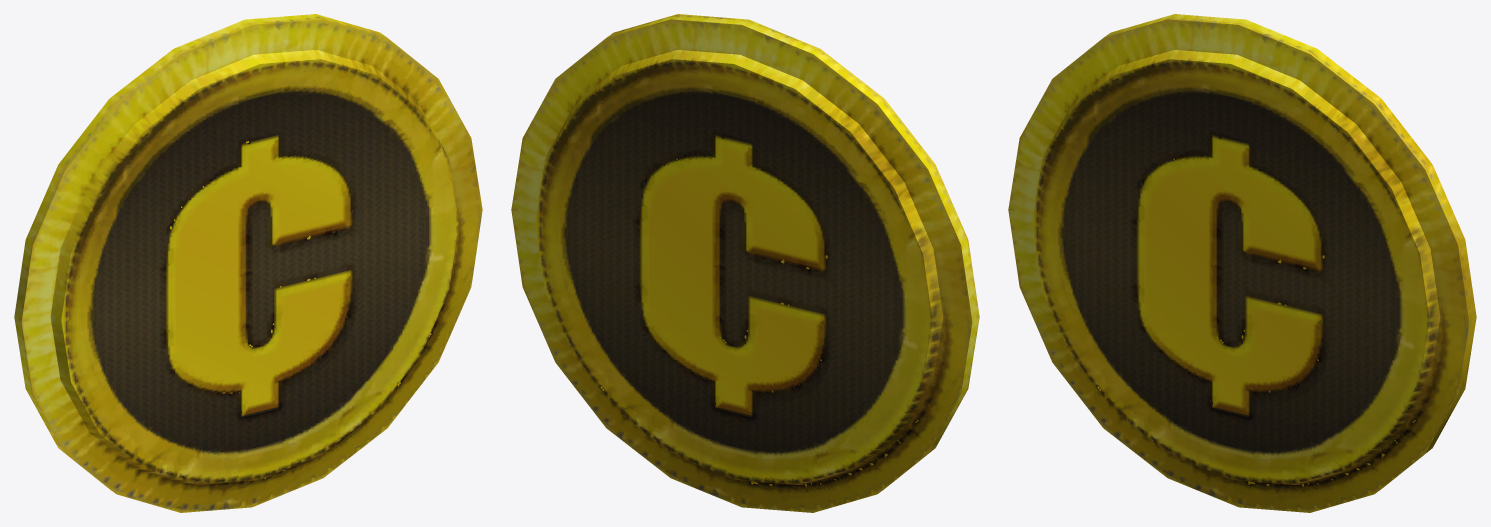
The model's file is coin.glb.
3 views of the same model, side by side, from view 1: azimuth 30°, elevation 25°; view 2: azimuth 150°, elevation 25°; view 3: azimuth 330°, elevation 25° (orthographic).
Parts seen in each view (by area): view 1: coinobject.1; view 2: coinobject.1; view 3: coinobject.1.
Boxes of the visible parts, box(x1,y1,x2,y2) form: coinobject.1: box(14, 14, 482, 512); coinobject.1: box(511, 14, 979, 512); coinobject.1: box(1008, 14, 1476, 512).
Size of the model in its own units: 0.0136 by 0.0136 by 0.00119.
Materials: 1 (1 with a texture image).
